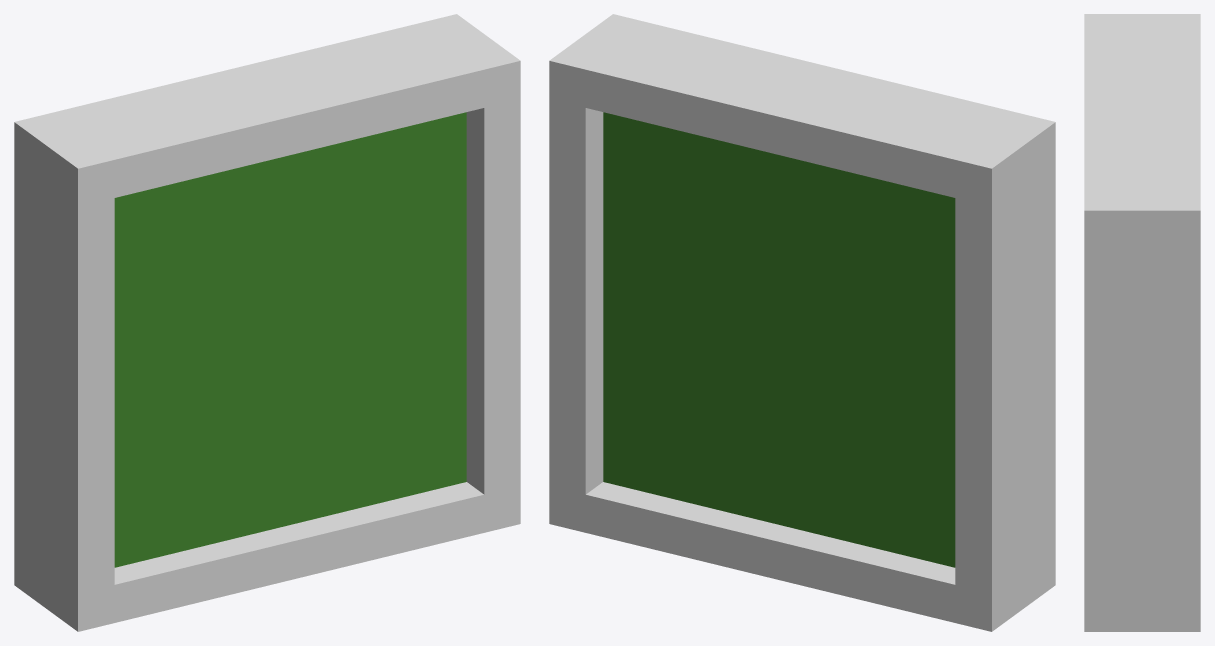
The model's file is Wall concretel 2 4x4x1 Solid.fbx.
3 renders of one model, left to right at view 1: azimuth 30°, elevation 25°; view 2: azimuth 150°, elevation 25°; view 3: azimuth 270°, elevation 25°, orthographic. The views are drawn at different scales.
Visible parts, largest first — view 1: wall concretel 2 4x4x1; view 2: wall concretel 2 4x4x1; view 3: wall concretel 2 4x4x1.
Part boxes in pixels (x1=…): wall concretel 2 4x4x1: x1=14, y1=14, x2=520, y2=631; wall concretel 2 4x4x1: x1=549, y1=14, x2=1055, y2=631; wall concretel 2 4x4x1: x1=1084, y1=14, x2=1200, y2=631.
Size of the model in its own units: 4 by 4 by 1.
